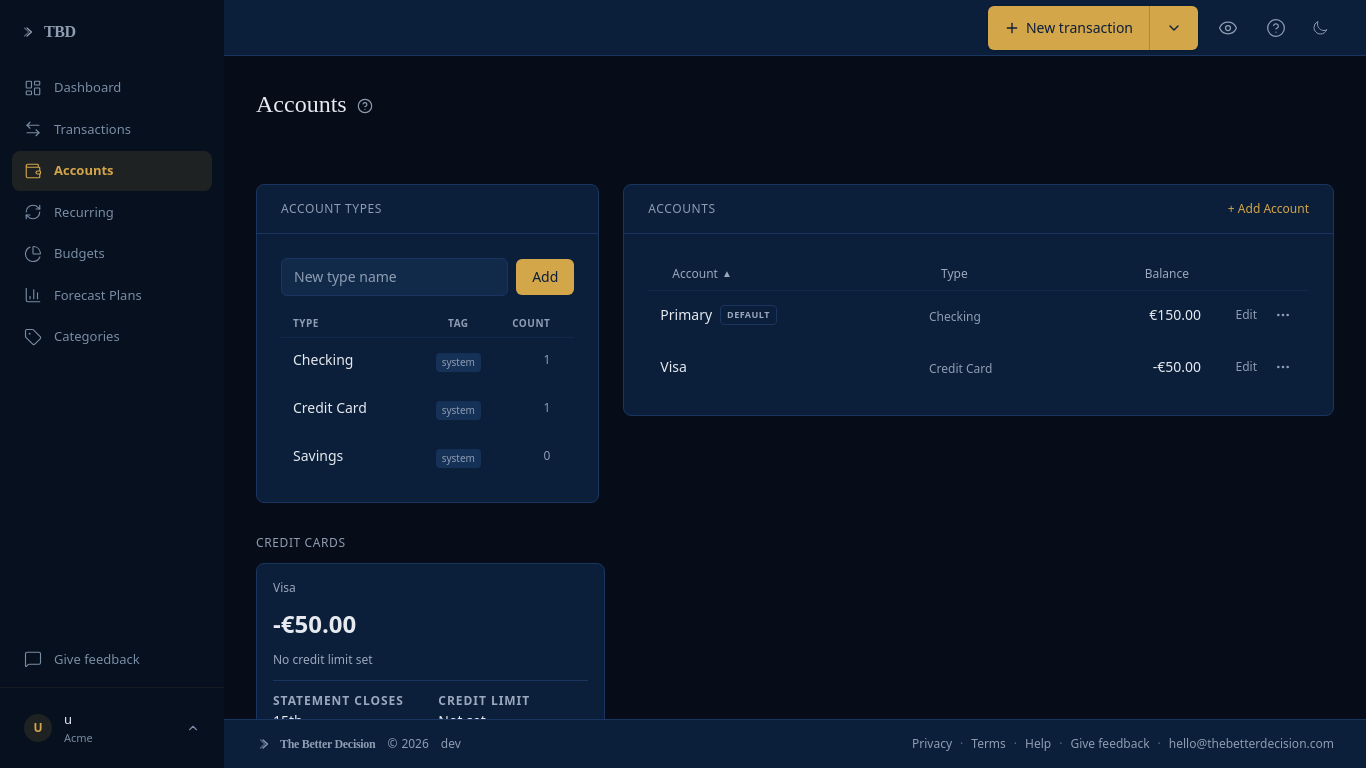
Scenario: Edit Account Type — inline edit row › clicking Save with type change shows the confirmation dialog
Click the button "Edit" next to "€150.00": (1246, 315) [1236,307,1257,323]
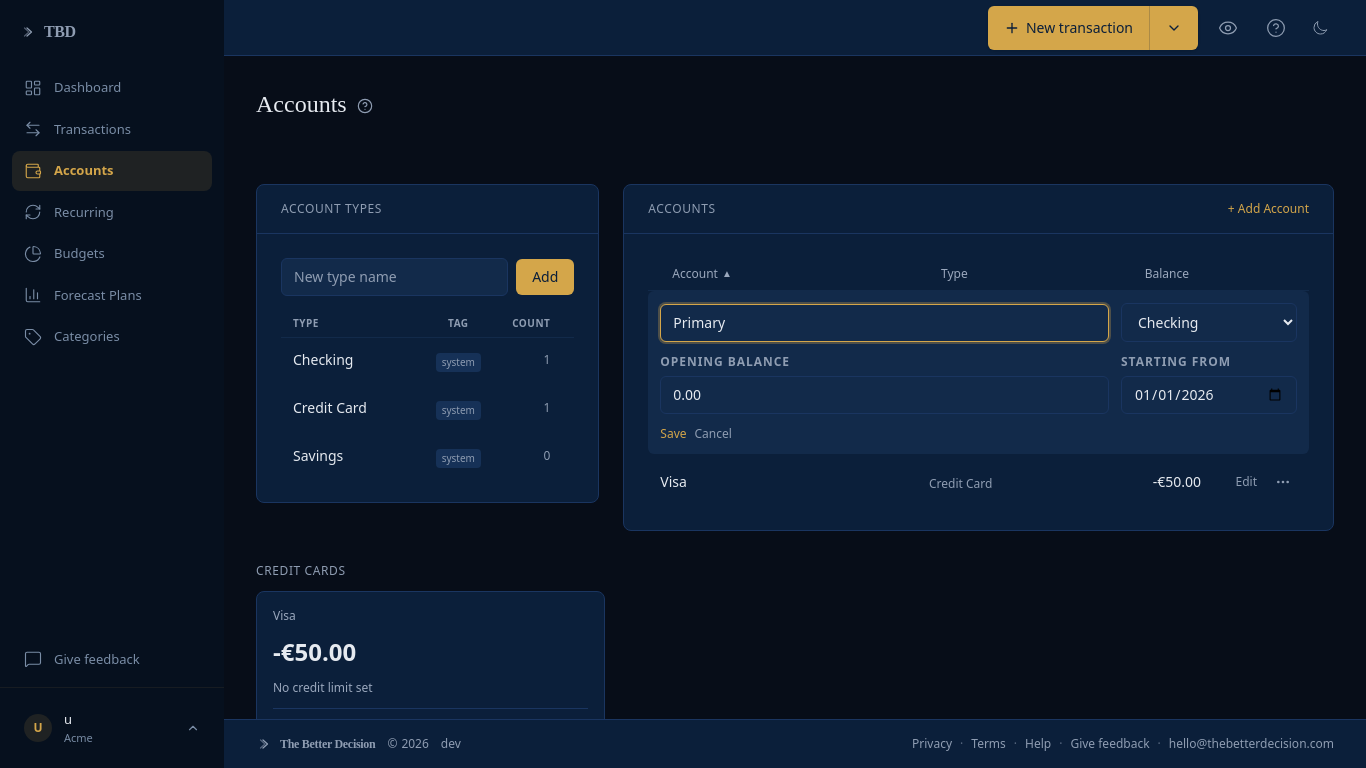
Select "Credit Card" in the dropdown named "Account type": (1209, 322) [1121,303,1297,342]
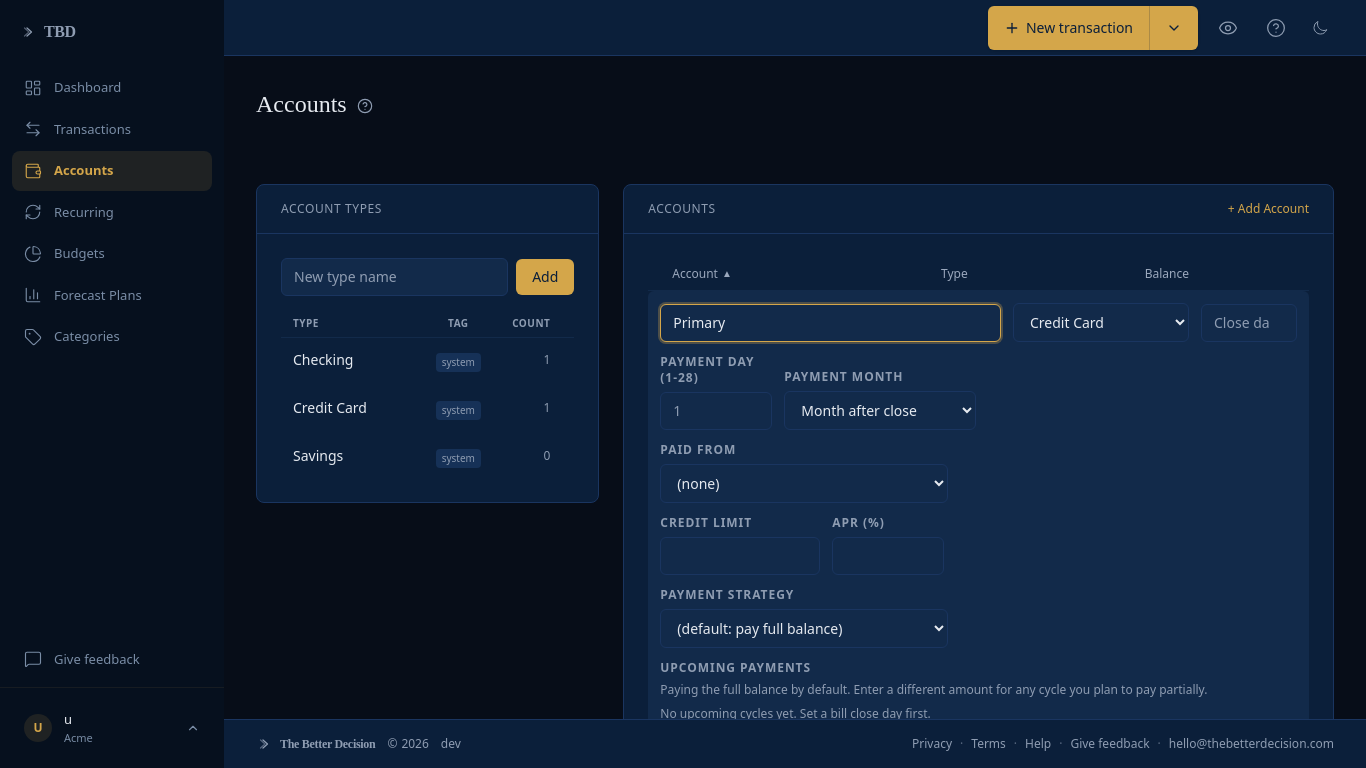
In the number field labelled "Close day": (1249, 322) [1201,304,1297,342], type "15"
(page scrolled)
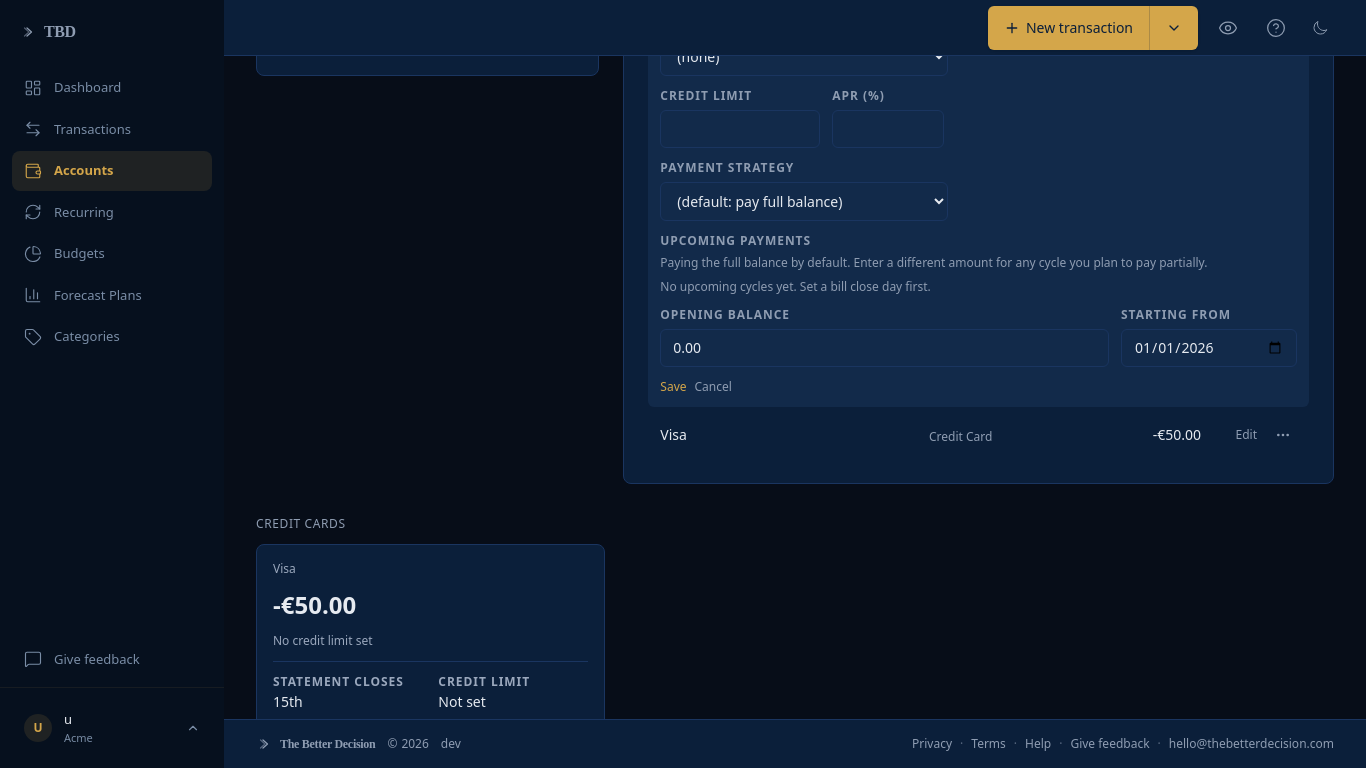
Click the button "Save": (673, 387) [660,379,686,395]
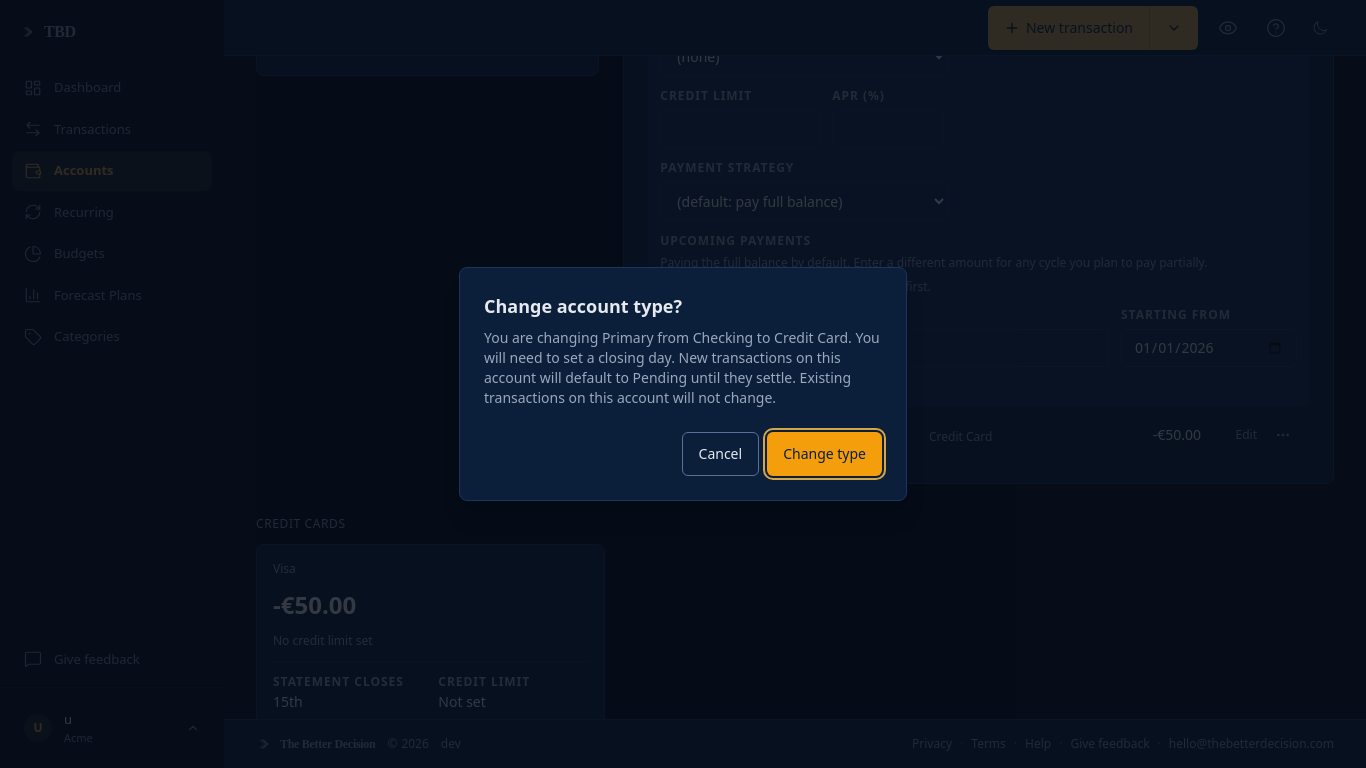
expect the heading "Change account type?" is shown: met, box [484,294,682,318]
